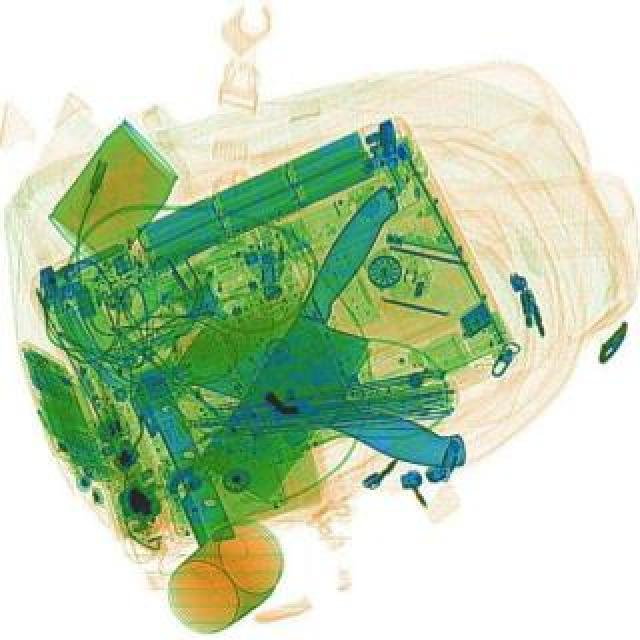knife: (190, 178, 454, 506), (166, 288, 494, 476)
